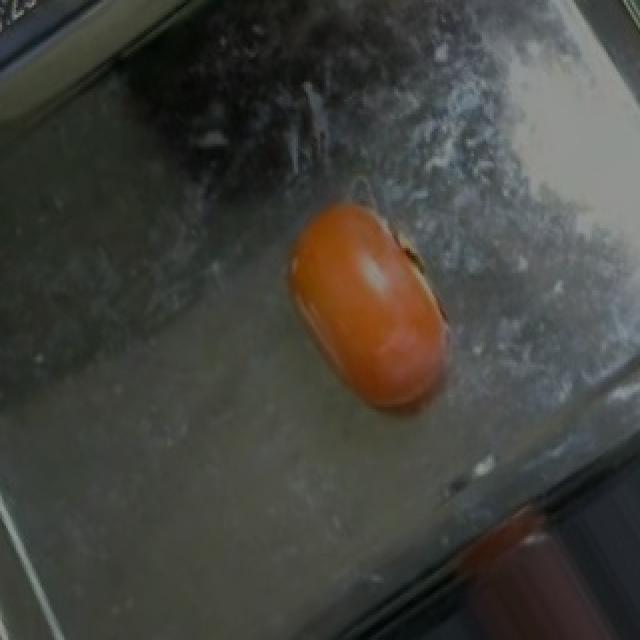Fruit: (262, 181, 476, 432)
